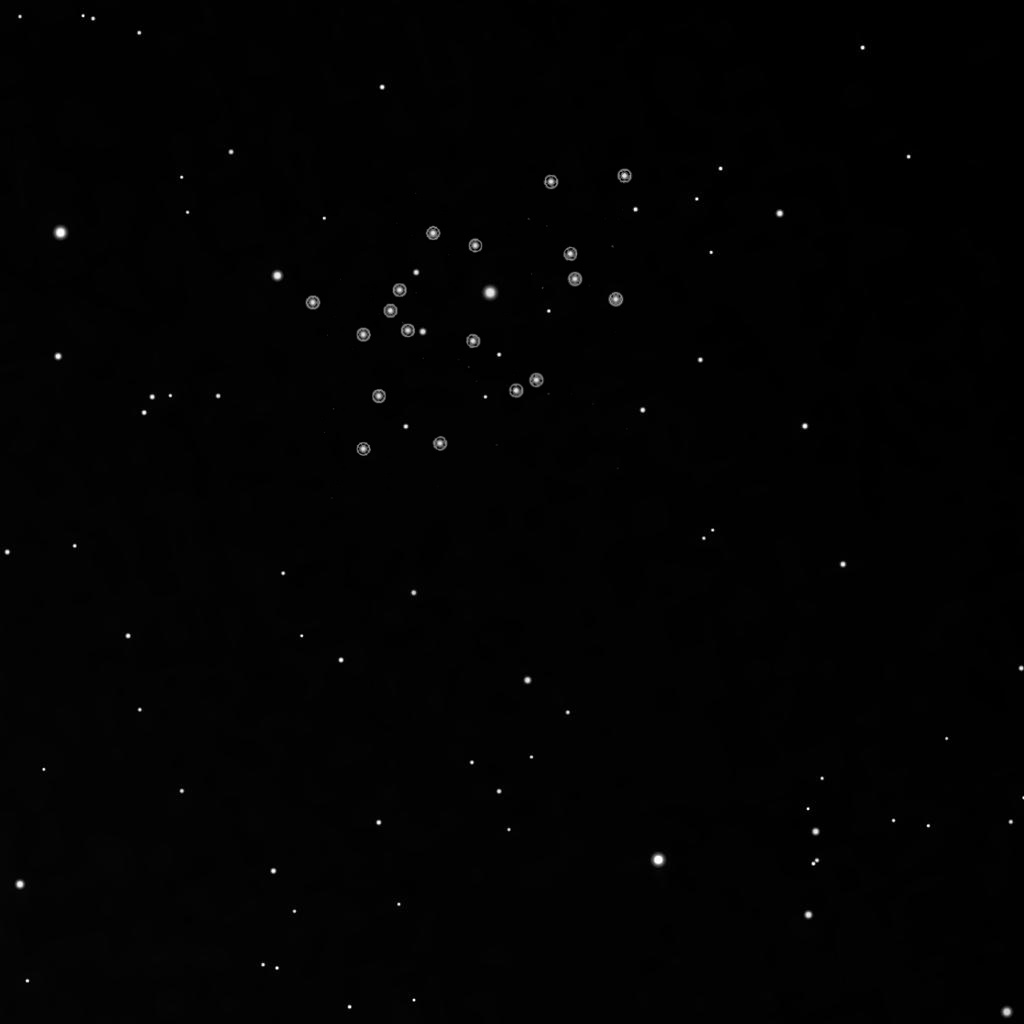canis_major: (352, 220, 487, 346)
